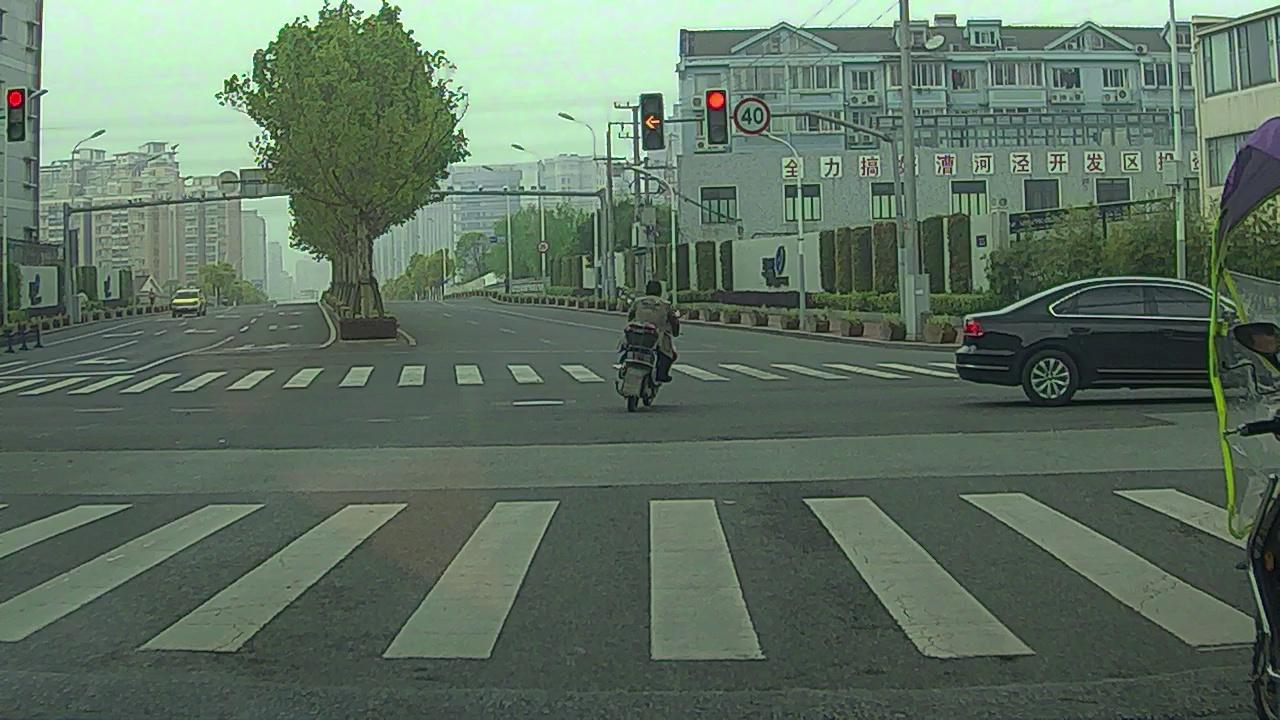traffic_light: (706, 89, 729, 144), (642, 95, 665, 149), (8, 89, 26, 143)
